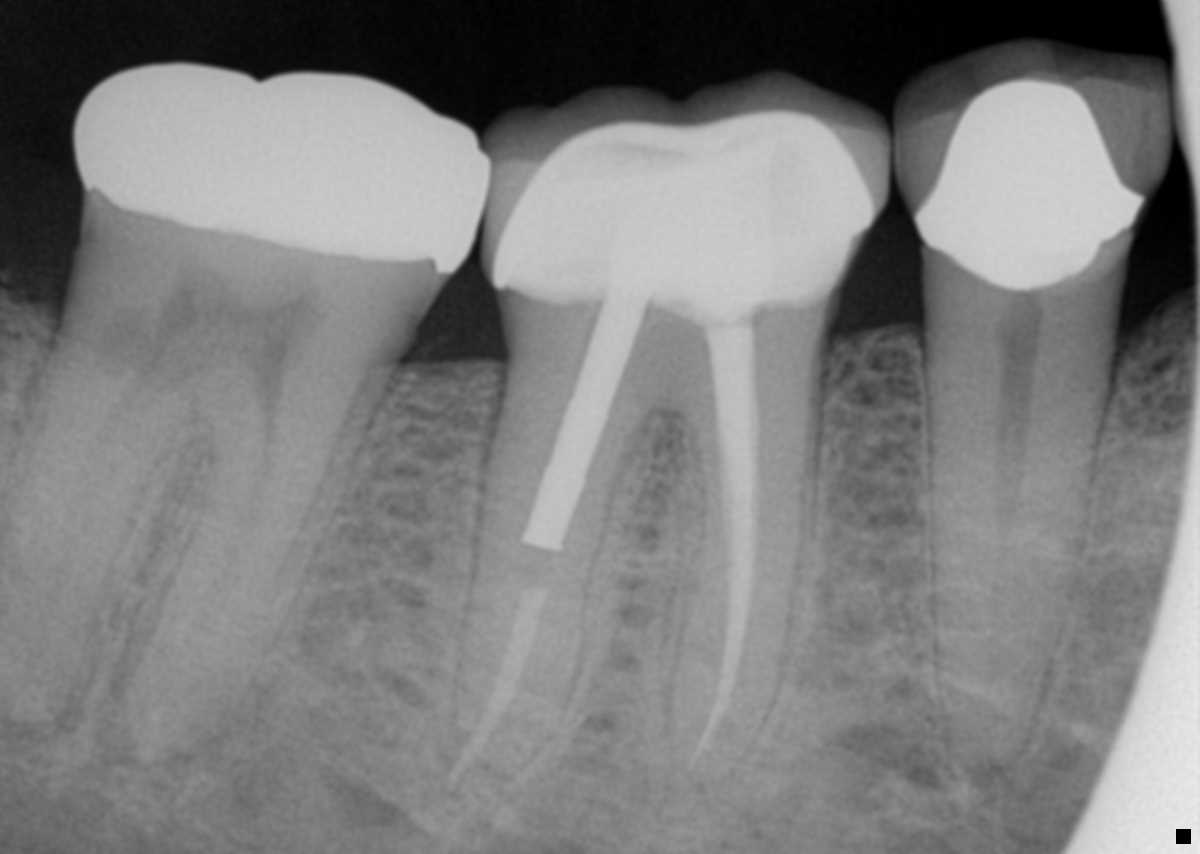Apical Lesion: (95, 696, 263, 799), (0, 689, 89, 757)
Distal Root: (442, 335, 667, 802), (0, 356, 179, 724)
Main Canal: (984, 305, 1045, 696)
Main Root: (919, 289, 1123, 768)
Mesial Canal: (192, 410, 279, 659)
Mesial Root: (123, 409, 358, 763), (660, 307, 828, 779)
Root Canal Filling: (690, 332, 766, 767), (450, 588, 550, 789)
